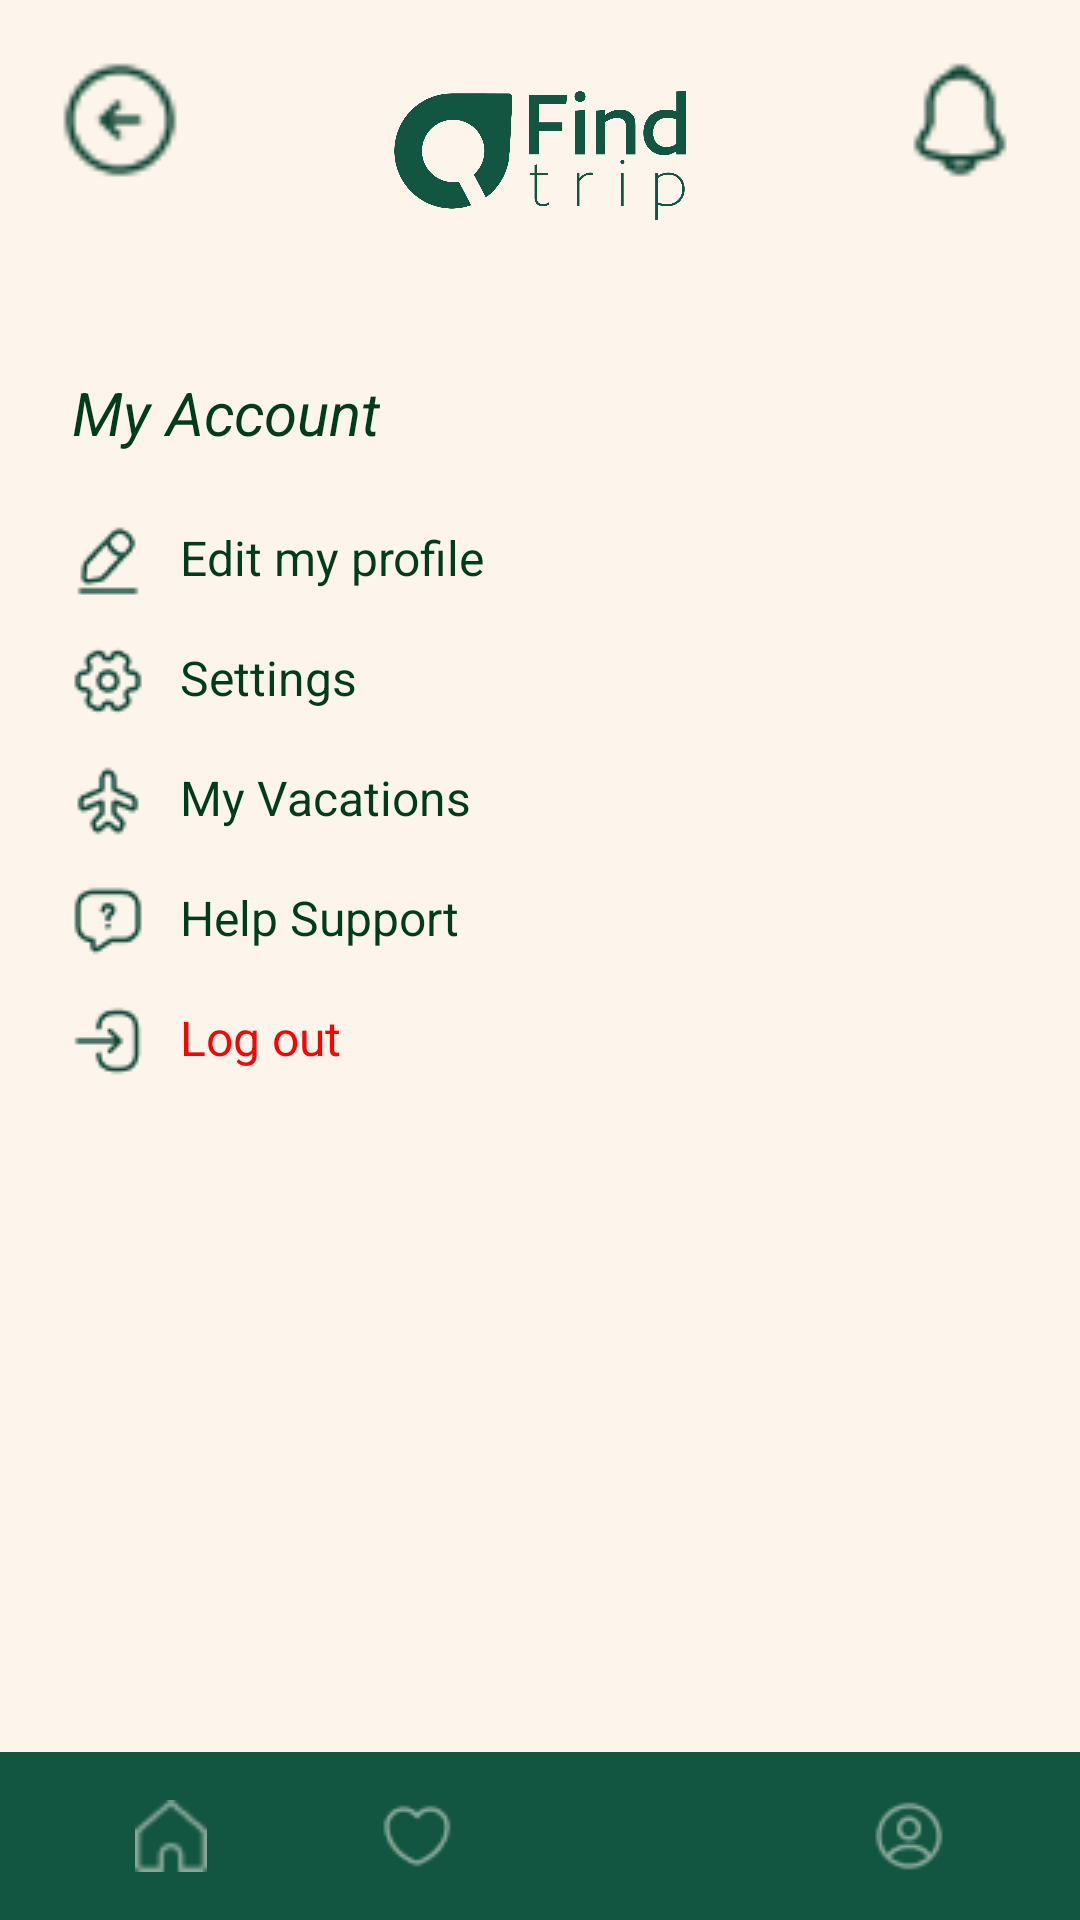

Icon bounding boxes for this 1080px×1920px phone screenshot, format (x1, y1, x2, y2):
airplane: (77, 767, 139, 835)
back: (63, 63, 177, 177)
favorite: (383, 1805, 451, 1866)
home: (135, 1800, 207, 1872)
messagequestion: (74, 887, 142, 954)
notification: (913, 63, 1007, 177)
profile: (875, 1802, 943, 1870)
